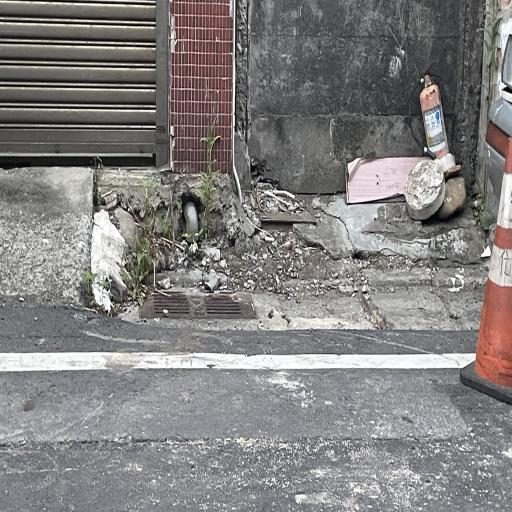car: (0, 338, 483, 379)
